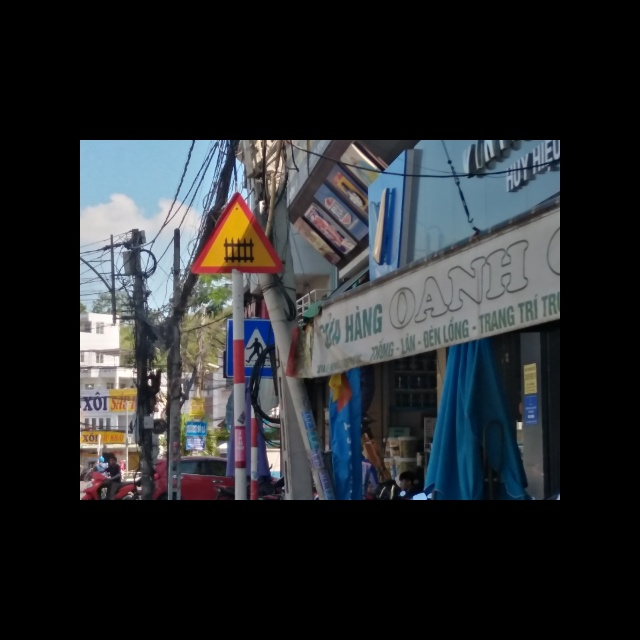Giao nhau với đường sắt có rào chắn: (187, 191, 284, 275)
